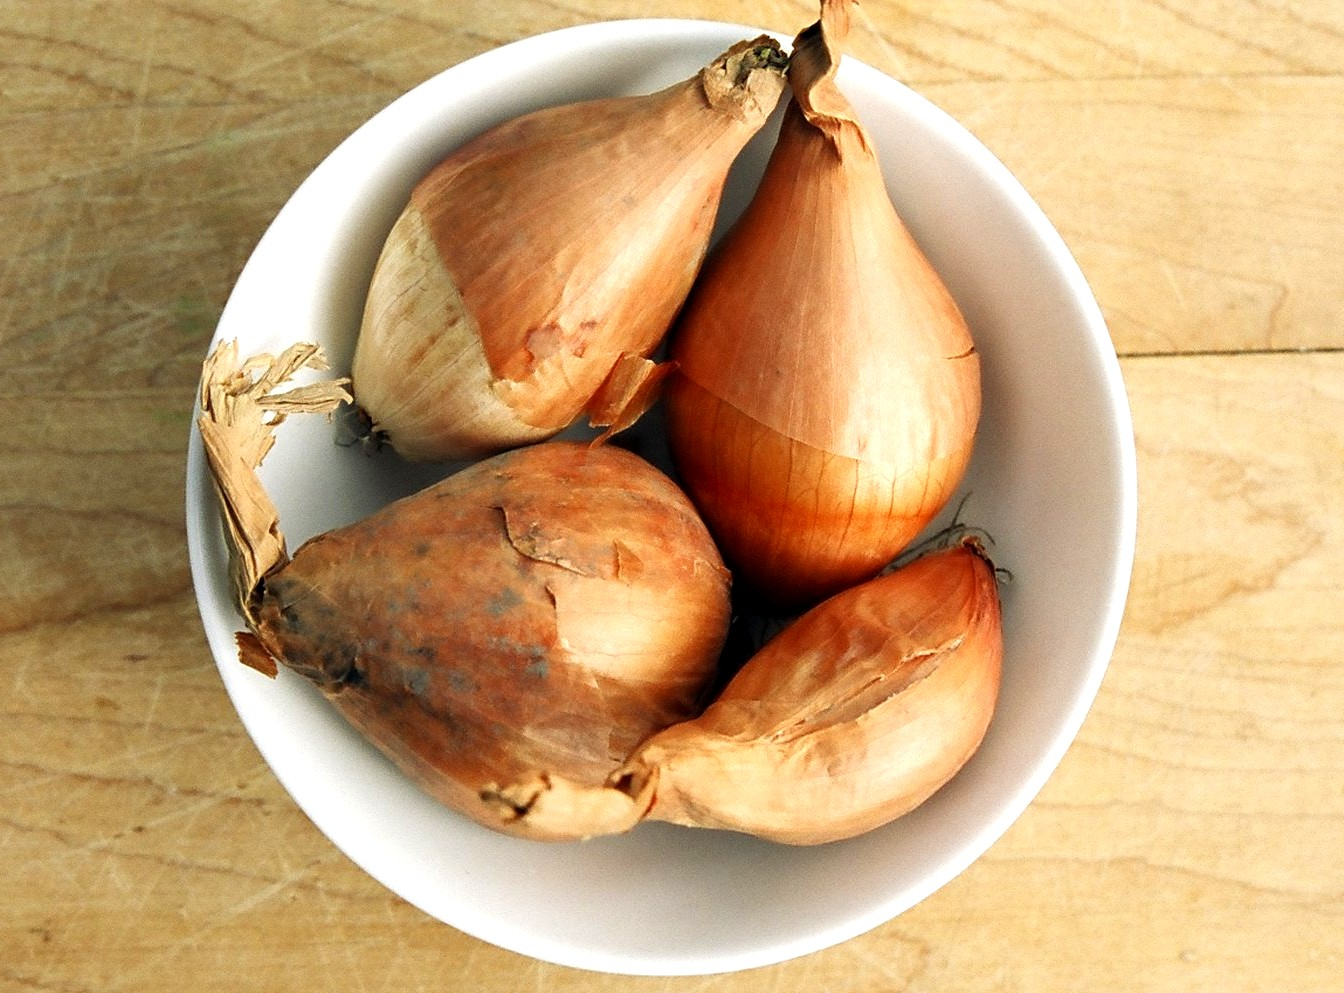onion: (327, 32, 792, 469), (670, 0, 986, 595)
